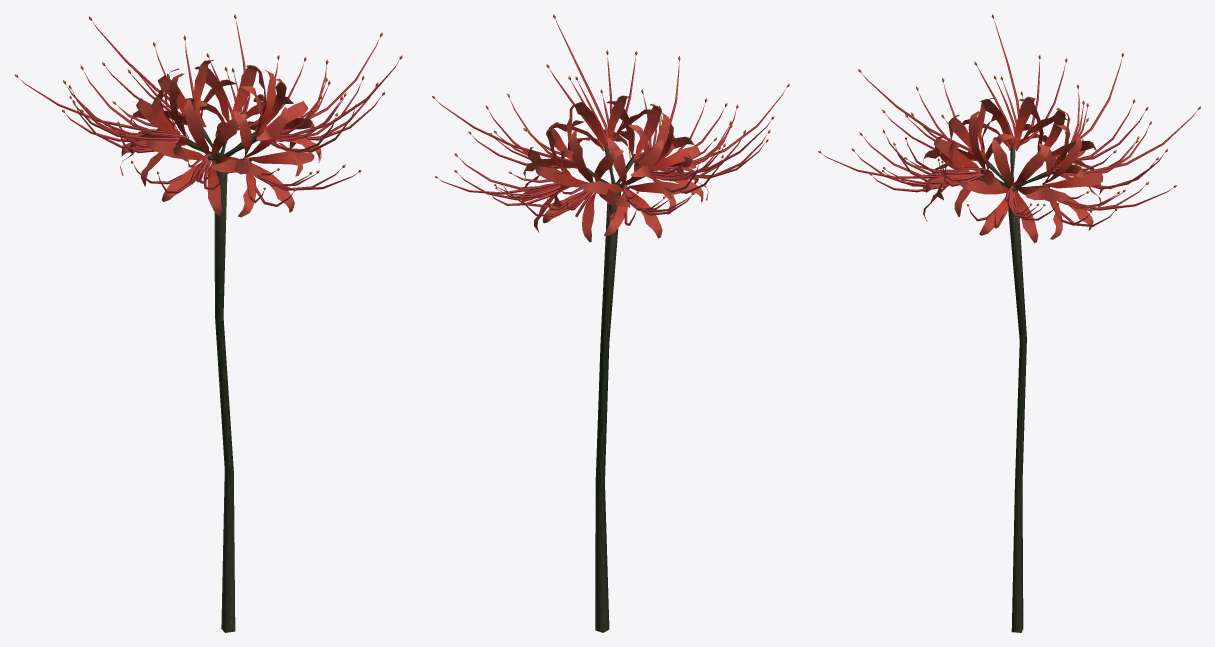
File: higanbana.glb
3 renders of one model, left to right at view 1: azimuth 30°, elevation 25°; view 2: azimuth 150°, elevation 25°; view 3: azimuth 270°, elevation 25°, orthographic. The views are drawn at different scales.
Visible parts, largest first — view 1: Higanbana_CC0_Sabinezumi; view 2: Higanbana_CC0_Sabinezumi; view 3: Higanbana_CC0_Sabinezumi.
Boxes of the visible parts, x1=… form: Higanbana_CC0_Sabinezumi: x1=14, y1=14, x2=402, y2=632; Higanbana_CC0_Sabinezumi: x1=432, y1=14, x2=789, y2=632; Higanbana_CC0_Sabinezumi: x1=818, y1=14, x2=1200, y2=632.
Size of the model in its own units: 0.3739 by 0.62 by 0.3951.
Materials: 1 (1 with a texture image).
